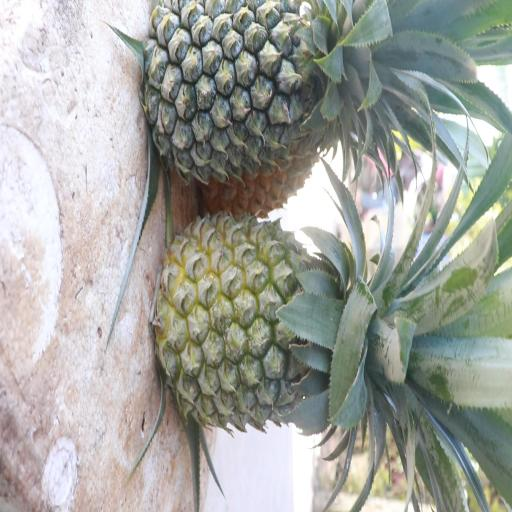------------------------------: (148, 214, 438, 438)
